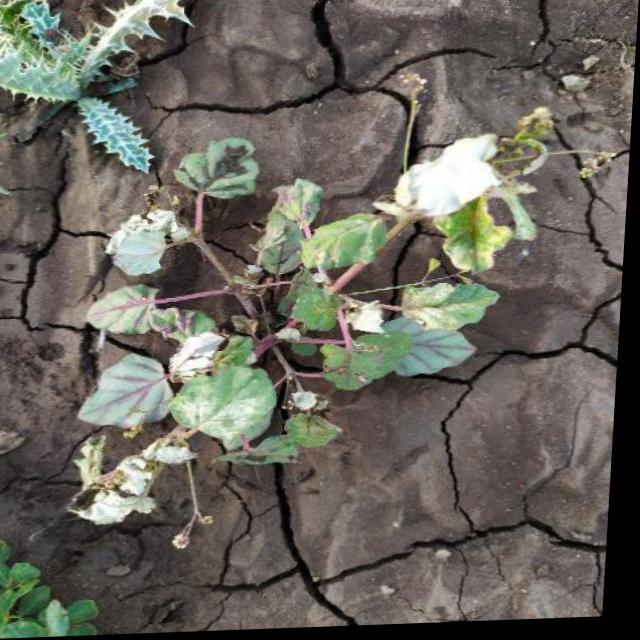weed: (49, 169, 564, 533), (0, 0, 230, 181)
